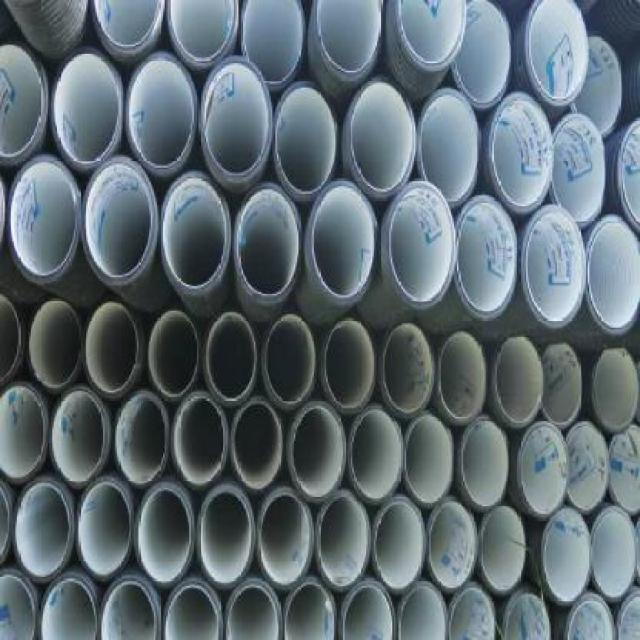pipe: (80, 157, 157, 284), (200, 57, 273, 186), (6, 154, 80, 281), (159, 171, 232, 296), (126, 52, 198, 174), (51, 48, 124, 168), (308, 180, 379, 303), (388, 180, 454, 307), (234, 186, 300, 303), (489, 94, 553, 214), (454, 195, 516, 318), (351, 79, 417, 192), (525, 209, 588, 326), (418, 89, 480, 206), (274, 85, 337, 196), (452, 0, 513, 108), (550, 112, 606, 228), (526, 2, 587, 106), (587, 217, 640, 336), (14, 479, 74, 583), (136, 481, 195, 586), (50, 385, 109, 489), (196, 485, 255, 588), (76, 477, 133, 580), (109, 391, 169, 488), (257, 489, 314, 589), (171, 393, 230, 489), (0, 43, 47, 162), (290, 402, 346, 501), (240, 0, 304, 85), (314, 0, 383, 78), (349, 407, 403, 506), (321, 317, 376, 414), (315, 495, 370, 590), (380, 322, 434, 416), (374, 499, 427, 593), (85, 302, 138, 395), (397, 0, 466, 71), (519, 420, 569, 517), (435, 330, 487, 423), (166, 0, 237, 68), (0, 383, 48, 483), (542, 508, 593, 602), (494, 332, 544, 426), (403, 414, 454, 506), (28, 298, 81, 386), (233, 400, 286, 488), (265, 314, 316, 405), (205, 313, 256, 403), (460, 417, 510, 508), (430, 500, 479, 591), (148, 310, 198, 399), (591, 508, 636, 601), (592, 345, 640, 432), (97, 572, 160, 638), (477, 508, 526, 592), (89, 0, 164, 54), (565, 422, 609, 514), (39, 572, 98, 638), (539, 341, 583, 426), (225, 577, 284, 638), (162, 579, 223, 638), (283, 580, 338, 638), (342, 583, 396, 640), (608, 425, 640, 514), (397, 585, 448, 639), (450, 586, 496, 638), (566, 593, 614, 639), (505, 594, 551, 638), (0, 294, 21, 382)
